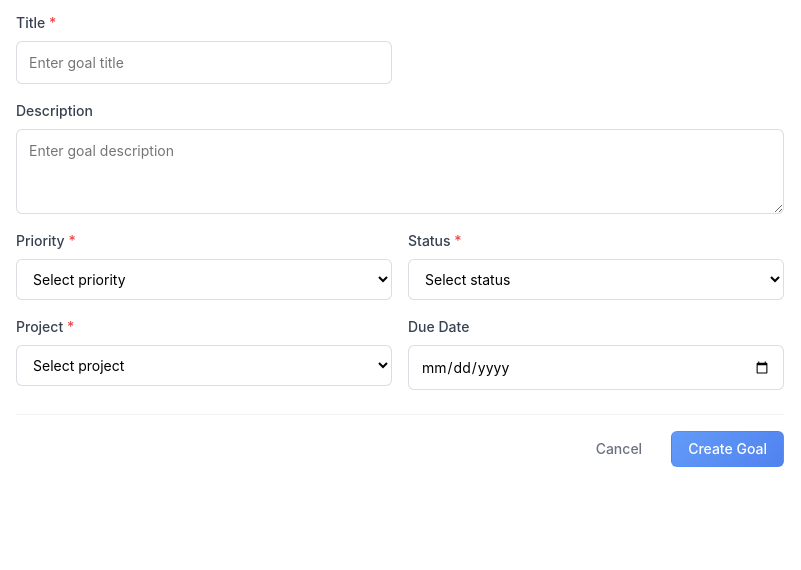
Test: GoalForm › validates required fields
Click the button "Create Goal".
click(728, 449)  # box [671, 431, 784, 467]
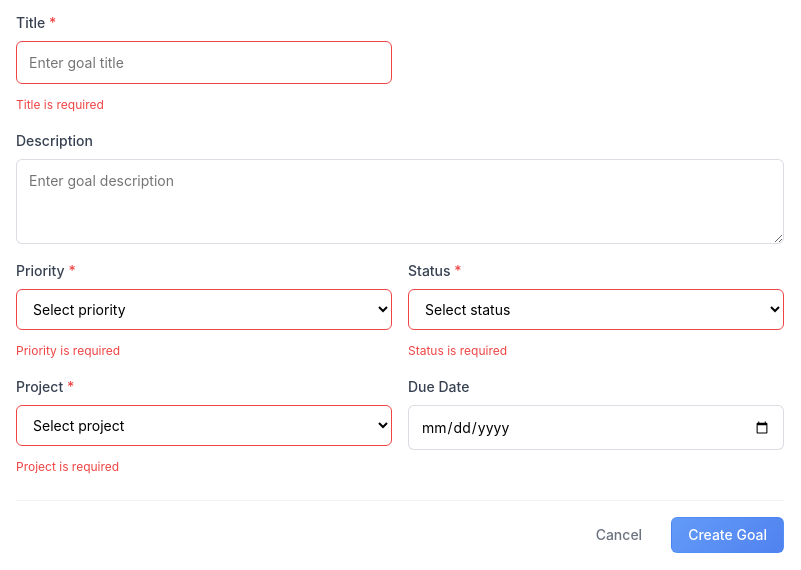
expect the text "Title is required" is shown: met, box [16, 97, 104, 112]
expect the text "Priority is required" is shown: met, box [16, 343, 120, 358]
expect the text "Status is required" is shown: met, box [408, 343, 507, 358]
